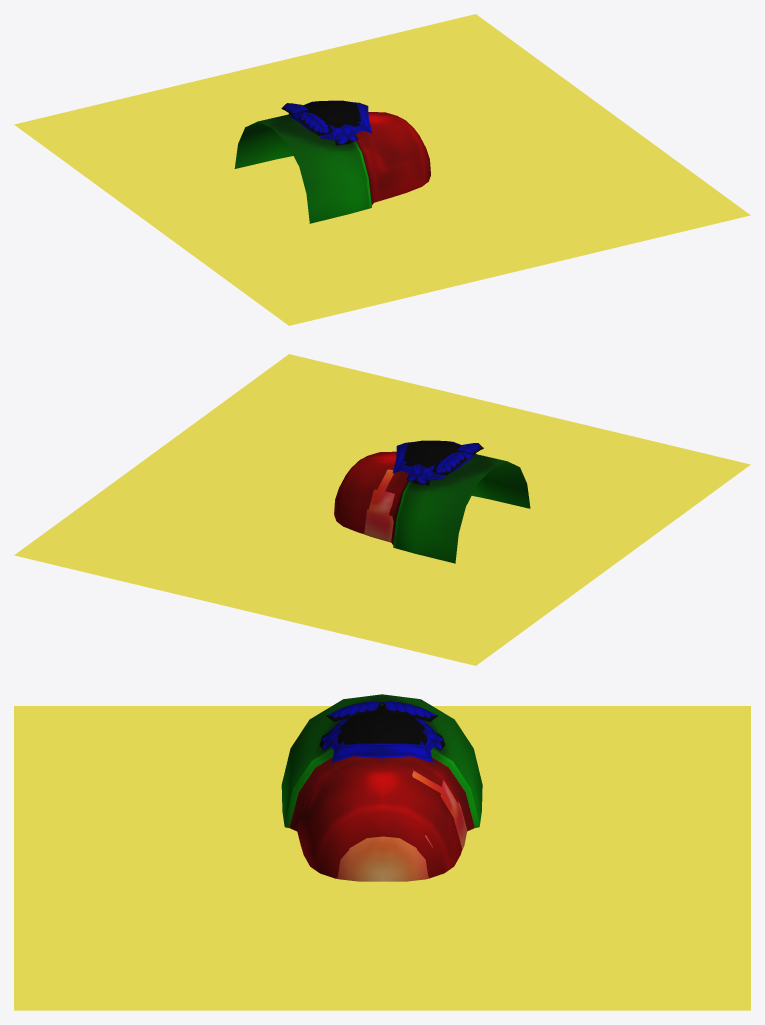
3 views of the same model, one above another, from view 1: azimuth 30°, elevation 25°; view 2: azimuth 150°, elevation 25°; view 3: azimuth 270°, elevation 25° (orthographic). The views are drawn at different scales.
Parts seen in each view (by area): view 1: "object0031_Editable Poly", object0003_C1226; view 2: "object0031_Editable Poly", object0003_C1226, "object0017_Editable Poly"; view 3: "object0031_Editable Poly", object0003_C1226, "object0017_Editable Poly".
Boxes of the visible parts, x1,y1,x2,y2 form: "object0031_Editable Poly": (14, 14, 750, 325); object0003_C1226: (234, 100, 430, 223); "object0031_Editable Poly": (14, 354, 750, 665); object0003_C1226: (334, 440, 530, 563); "object0017_Editable Poly": (334, 469, 394, 542); "object0031_Editable Poly": (14, 706, 750, 1010); object0003_C1226: (281, 694, 482, 878); "object0017_Editable Poly": (337, 770, 467, 881).
Size of the model in its own units: 0.6982 by 0.2085 by 0.7203.
